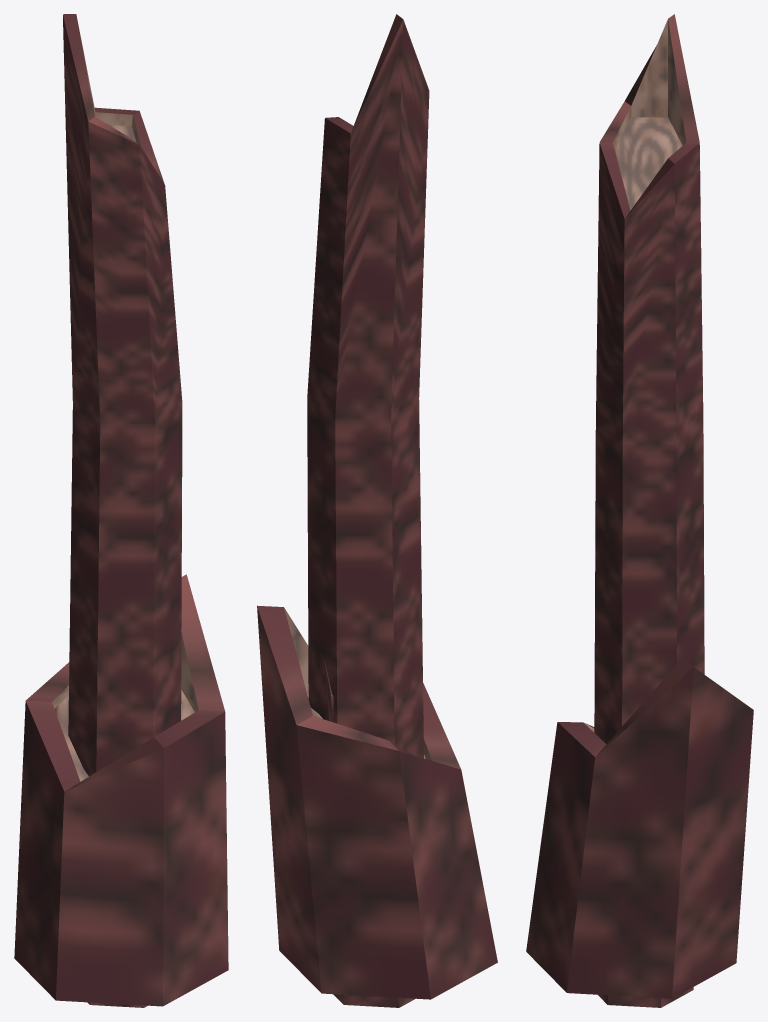
The model's file is trunk_02.glb.
The picture shows the model from 3 angles, left to right: view 1: azimuth 30°, elevation 25°; view 2: azimuth 150°, elevation 25°; view 3: azimuth 270°, elevation 25°; orthographic projection. The views are drawn at different scales.
Parts seen in each view (by area): view 1: trunk_02, trunk_04; view 2: trunk_02, trunk_04, trunk_03; view 3: trunk_02, trunk_04, trunk_03.
Part boxes in pixels (x1,y1,x2,y2): trunk_02: (63,14,182,776); trunk_04: (14,574,228,1006); trunk_02: (307,14,429,758); trunk_04: (257,605,497,999); trunk_03: (324,661,415,1007); trunk_02: (594,14,704,743); trunk_04: (526,657,753,998); trunk_03: (598,987,693,1007).
Size of the model in its own units: 3.72 by 18.81 by 4.07.
3 materials, 3 textured.
